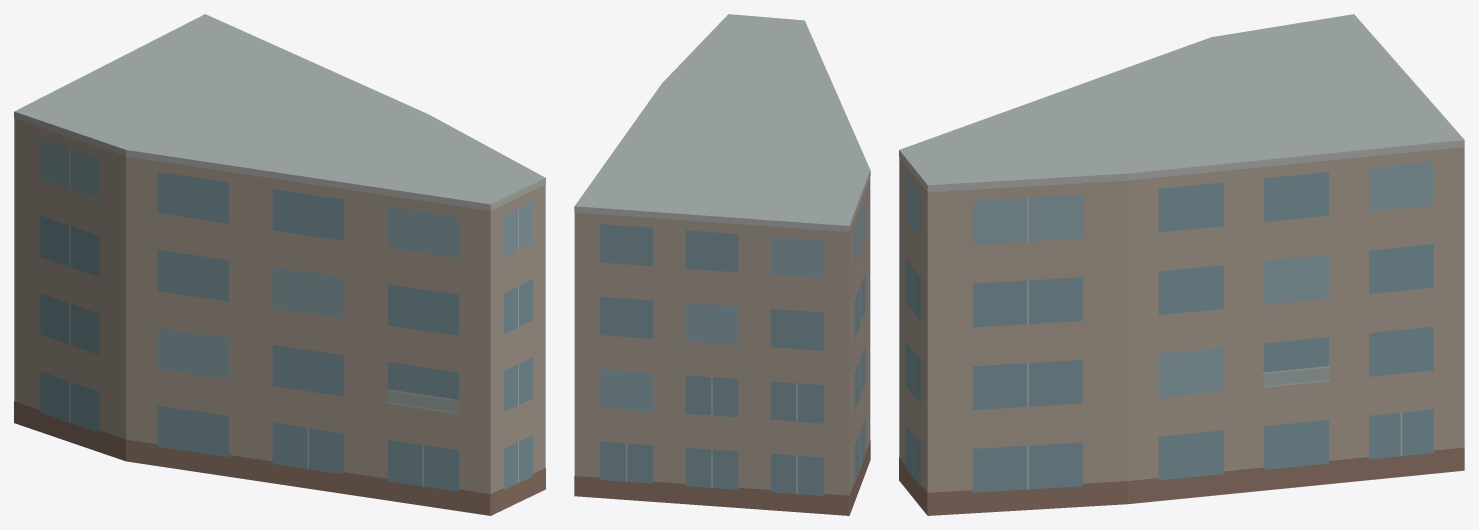
File: survey-upis-32487537.glb
3 renders of one model, left to right at view 1: azimuth 30°, elevation 25°; view 2: azimuth 150°, elevation 25°; view 3: azimuth 270°, elevation 25°, orthographic. The views are drawn at different scales.
Visible parts, largest first — view 1: survey-upis-32487537.tmp; view 2: survey-upis-32487537.tmp; view 3: survey-upis-32487537.tmp.
Boxes of the visible parts, bbox=[...] form: survey-upis-32487537.tmp: bbox=[14, 14, 545, 515]; survey-upis-32487537.tmp: bbox=[574, 14, 870, 515]; survey-upis-32487537.tmp: bbox=[899, 14, 1464, 515].
Size of the model in its own units: 12.79 by 11.5 by 17.84.
